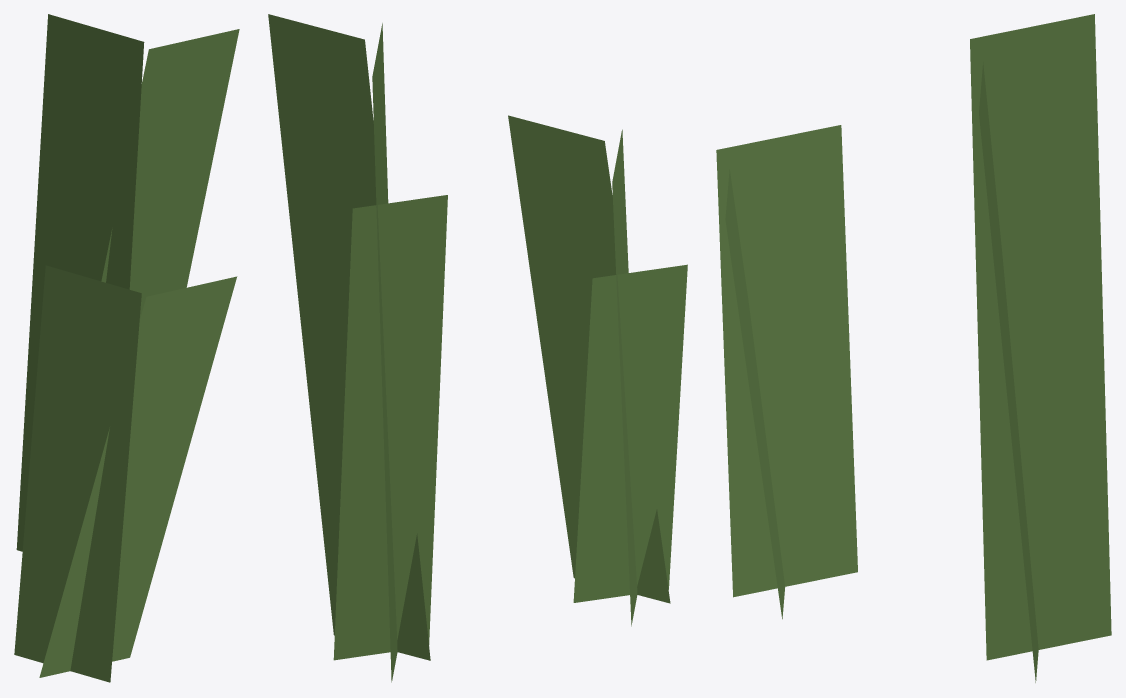
File: arch_land_scatter_c16_20_lod1.glb
3 renders of one model, left to right at view 1: azimuth 30°, elevation 25°; view 2: azimuth 150°, elevation 25°; view 3: azimuth 270°, elevation 25°, orthographic. The views are drawn at different scales.
Parts seen in each view (by area): view 1: arch_land_scatter_c16_20_lod1; view 2: arch_land_scatter_c16_20_lod1; view 3: arch_land_scatter_c16_20_lod1.
Boxes of the visible parts, box(x1,y1,x2,y2) form: arch_land_scatter_c16_20_lod1: box(14, 14, 239, 682); arch_land_scatter_c16_20_lod1: box(268, 14, 687, 682); arch_land_scatter_c16_20_lod1: box(716, 14, 1111, 682).
Bounding box in the file's own units: 0.3693 × 0.6489 × 0.3657.
